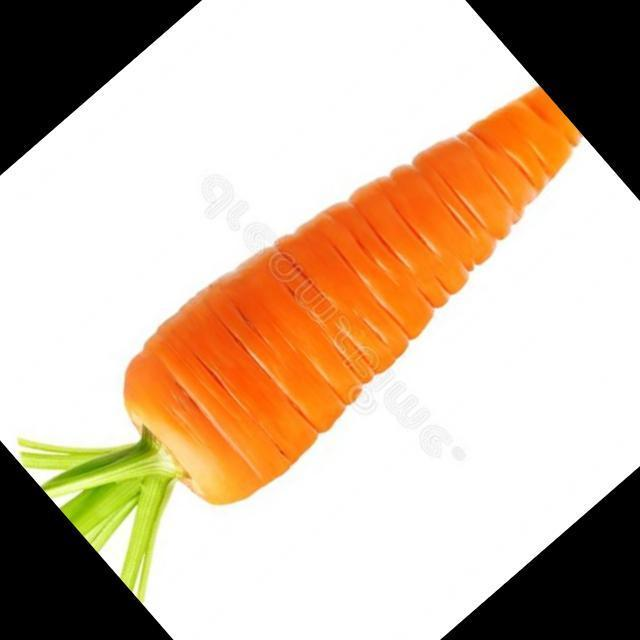Carrot: (20, 88, 580, 596)
